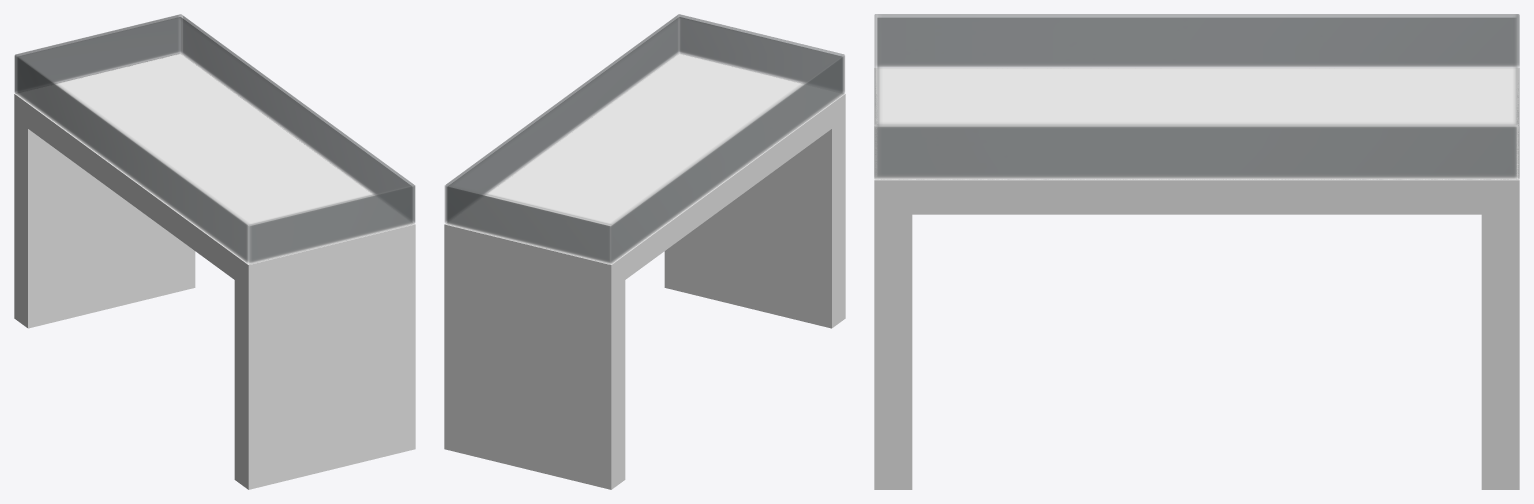
File: 20210605_glas-cabinet.gltf
3 views of the same model, side by side, from view 1: azimuth 30°, elevation 25°; view 2: azimuth 150°, elevation 25°; view 3: azimuth 270°, elevation 25° (orthographic). The views are drawn at different scales.
Parts seen in each view (by area): view 1: PW-MT11000, clear thick glass_clonedChild, clear thick glass; view 2: PW-MT11000, clear thick glass_clonedChild, clear thick glass; view 3: PW-MT11000, clear thick glass_clonedChild, clear thick glass.
Boxes of the visible parts, left/top/right/bottom form: PW-MT11000: left=14, top=53, right=415, bottom=489; clear thick glass_clonedChild: left=14, top=14, right=414, bottom=263; clear thick glass: left=15, top=15, right=414, bottom=262; PW-MT11000: left=444, top=53, right=845, bottom=489; clear thick glass_clonedChild: left=445, top=14, right=844, bottom=264; clear thick glass: left=445, top=14, right=844, bottom=261; PW-MT11000: left=874, top=68, right=1519, bottom=489; clear thick glass_clonedChild: left=874, top=14, right=1519, bottom=178; clear thick glass: left=875, top=14, right=1519, bottom=179.
Size of the model in its own units: 0.7 by 1.06 by 1.7.
Materials: 2 (1 with a texture image).
